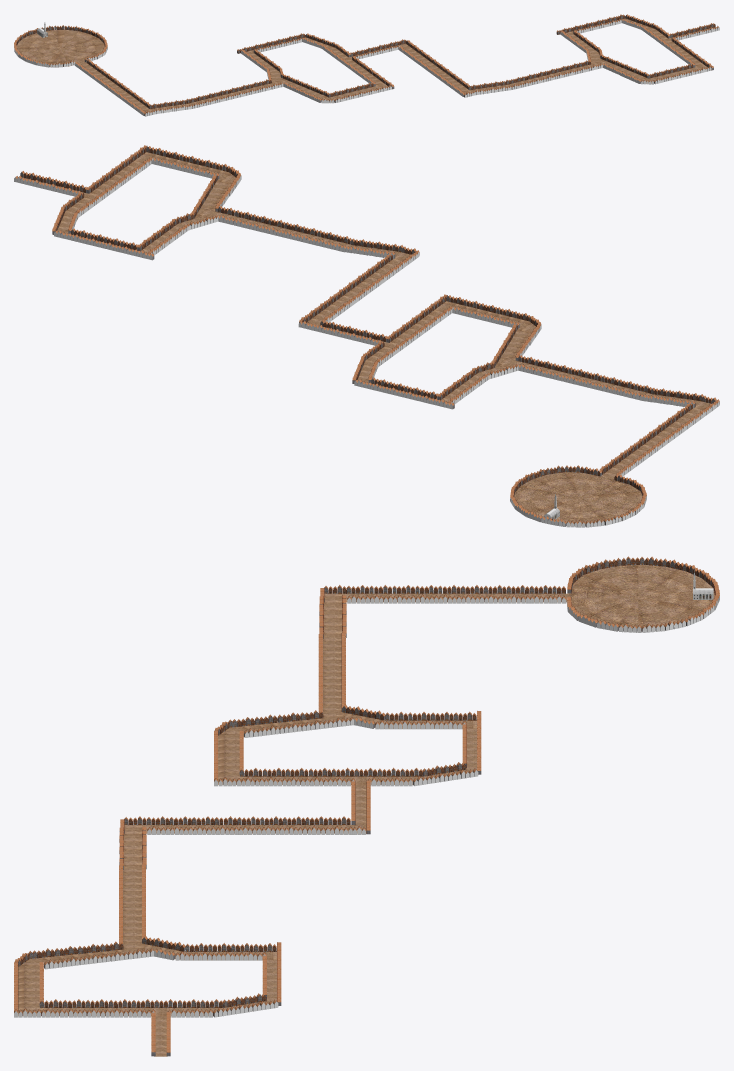
File: city.fbx
3 views of the same model, one above another, from view 1: azimuth 30°, elevation 25°; view 2: azimuth 150°, elevation 25°; view 3: azimuth 270°, elevation 25° (orthographic). The views are drawn at different scales.
Parts seen in each view (by area): view 1: pCylinder1, pPlane2, pPlane1, pCube398, pCube399, pCube265, pCube153; view 2: pCylinder1, pPlane2, pPlane1, pCube398, pCube399; view 3: pPlane2, pPlane1, pCylinder1, pCube398, pCube399.
Boxes of the visible parts, x1,y1,x2,y2 form: pCylinder1: (16,30,104,67); pPlane2: (80,37,394,112); pPlane1: (399,18,714,93); pCube398: (30,25,107,62); pCube399: (14,30,75,67); pCube265: (281,73,319,92); pCube153: (600,55,638,73); pCylinder1: (514,471,642,525); pPlane2: (323,301,709,478); pPlane1: (22,152,409,326); pCube398: (510,465,601,525); pCube399: (558,474,646,527); pPlane2: (218,593,567,824); pPlane1: (18,825,366,1056); pCylinder1: (567,565,714,627); pCube398: (566,585,719,632); pCube399: (567,556,717,593).
Bounding box in the file's own units: 239860 × 9523 × 148735.
